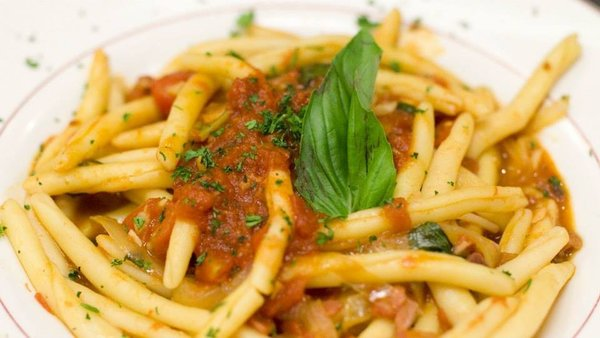curry: (292, 19, 397, 220)
